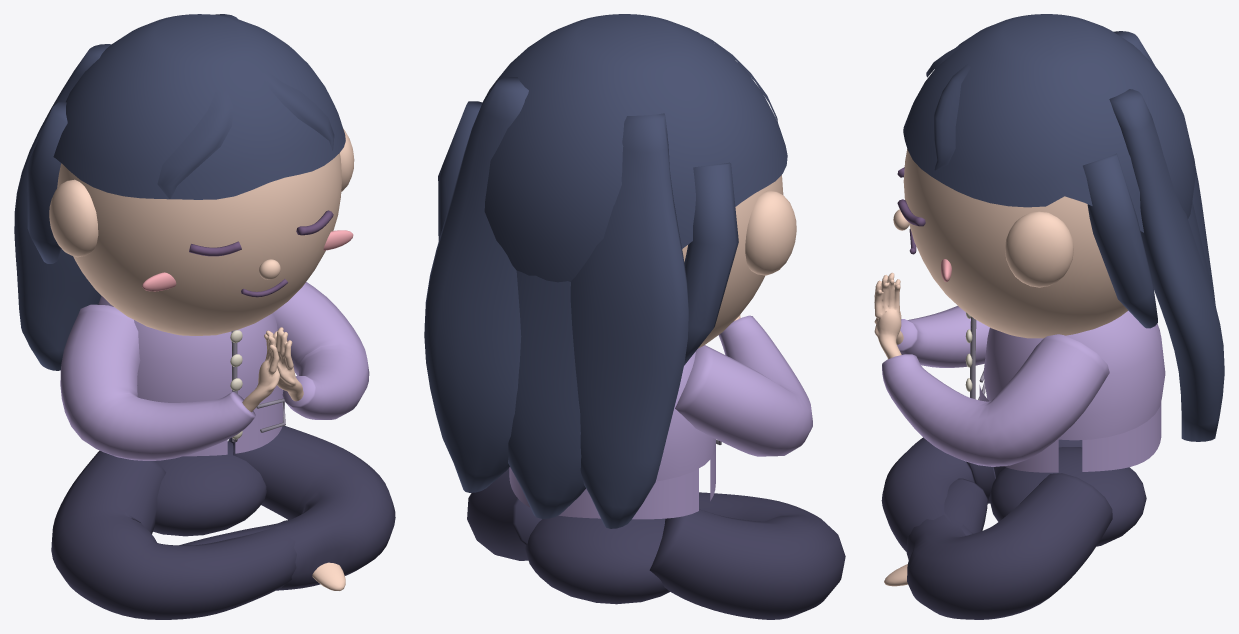
The model's file is meditator_female_cross_prayer_p05d.glb.
3 renders of one model, left to right at view 1: azimuth 30°, elevation 25°; view 2: azimuth 150°, elevation 25°; view 3: azimuth 270°, elevation 25°, orthographic. The views are drawn at different scales.
Parts seen in each view (by area): view 1: hair_blue_black_UpperBodyBreath_object, ao_ba_ba_pants_SeatRoot_object, skin_rose_cream_UpperBodyBreath_object, ao_ba_ba_top_UpperBodyBreath_object, eyes_mauve_UpperBodyBreath_object, skin_blush_UpperBodyBreath_object, skin_rose_cream_SeatRoot_exposed_instep_p05d_object; view 2: hair_blue_black_UpperBodyBreath_object, ao_ba_ba_pants_SeatRoot_object, ao_ba_ba_top_UpperBodyBreath_object, skin_rose_cream_UpperBodyBreath_object; view 3: hair_blue_black_UpperBodyBreath_object, ao_ba_ba_top_UpperBodyBreath_object, ao_ba_ba_pants_SeatRoot_object, skin_rose_cream_UpperBodyBreath_object, ao_ba_ba_placket_UpperBodyBreath_object, eyes_mauve_UpperBodyBreath_object.
Part boxes in pixels (bbox=[...]): hair_blue_black_UpperBodyBreath_object: bbox=[14, 14, 345, 370]; ao_ba_ba_pants_SeatRoot_object: bbox=[51, 425, 395, 619]; skin_rose_cream_UpperBodyBreath_object: bbox=[49, 129, 354, 412]; ao_ba_ba_top_UpperBodyBreath_object: bbox=[60, 282, 369, 460]; eyes_mauve_UpperBodyBreath_object: bbox=[189, 210, 333, 297]; skin_blush_UpperBodyBreath_object: bbox=[142, 230, 353, 291]; skin_rose_cream_SeatRoot_exposed_instep_p05d_object: bbox=[312, 562, 345, 590]; hair_blue_black_UpperBodyBreath_object: bbox=[424, 14, 787, 528]; ao_ba_ba_pants_SeatRoot_object: bbox=[467, 468, 845, 619]; ao_ba_ba_top_UpperBodyBreath_object: bbox=[509, 315, 812, 519]; skin_rose_cream_UpperBodyBreath_object: bbox=[682, 175, 796, 348]; hair_blue_black_UpperBodyBreath_object: bbox=[903, 14, 1224, 441]; ao_ba_ba_top_UpperBodyBreath_object: bbox=[882, 306, 1165, 472]; ao_ba_ba_pants_SeatRoot_object: bbox=[881, 437, 1146, 619]; skin_rose_cream_UpperBodyBreath_object: bbox=[874, 149, 1127, 359]; ao_ba_ba_placket_UpperBodyBreath_object: bbox=[970, 317, 985, 400]; eyes_mauve_UpperBodyBreath_object: bbox=[897, 167, 925, 254].
Bounding box in the file's own units: 0.7292 × 1.16 × 0.6886.
